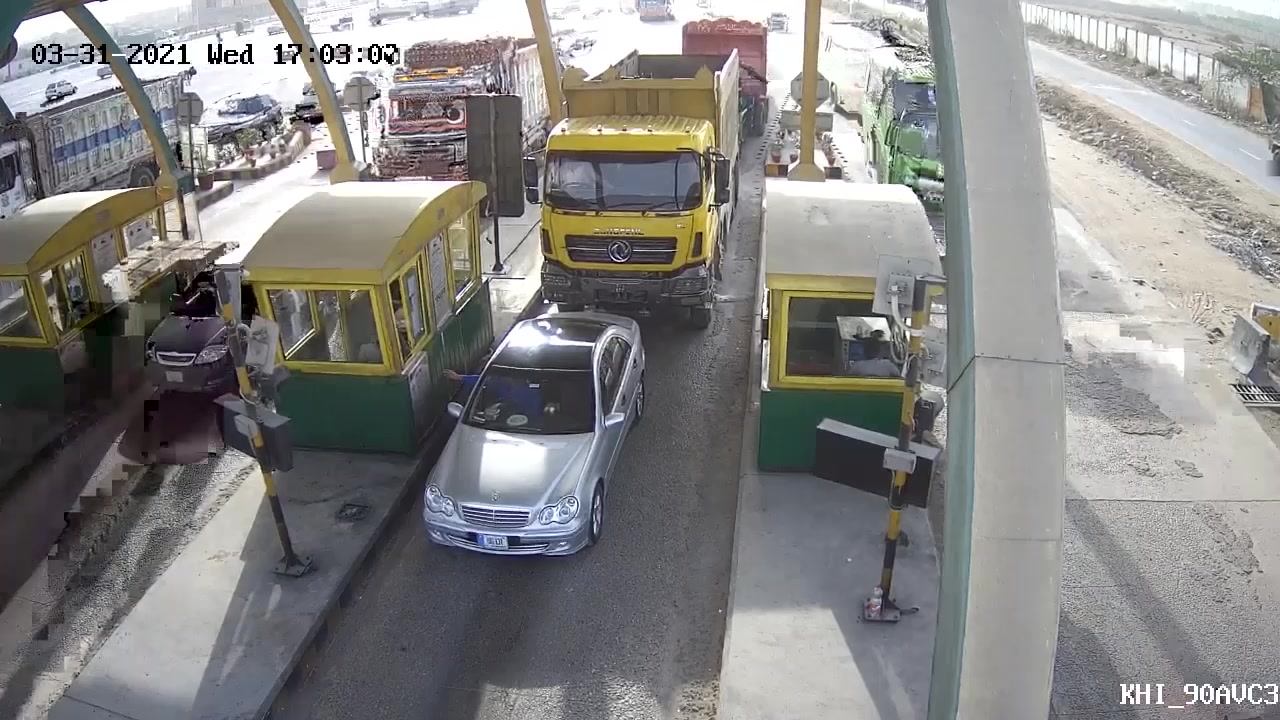F1: (404, 311, 650, 564)
F5: (518, 44, 750, 331)
